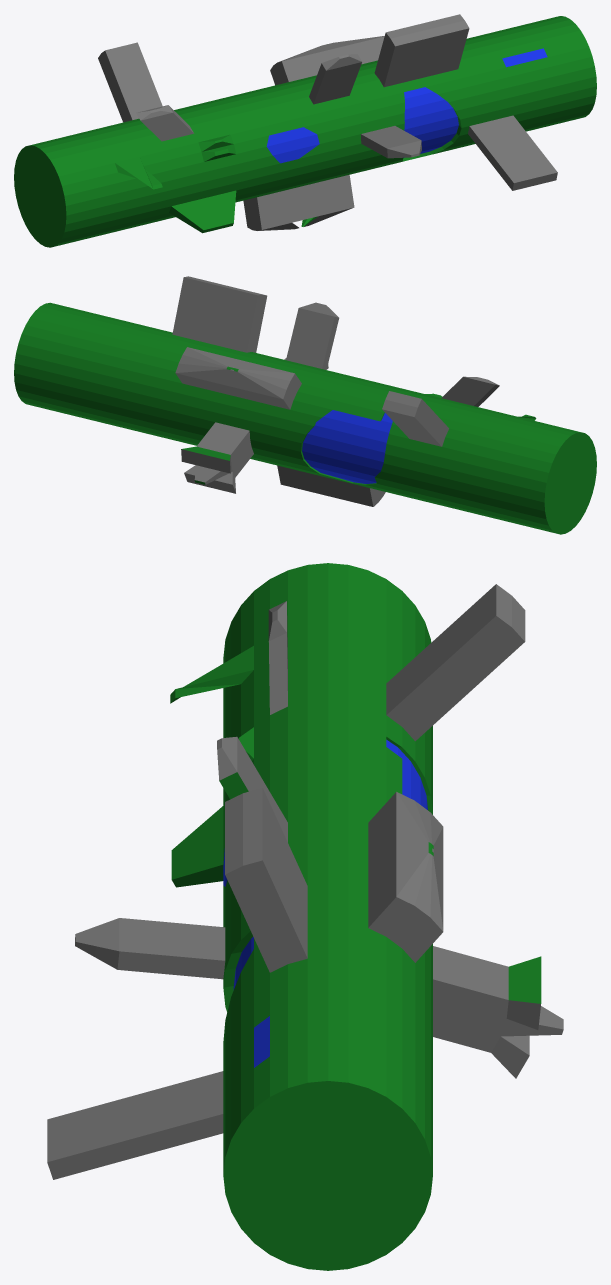
The model's file is earth.glb.
3 views of the same model, one above another, from view 1: azimuth 30°, elevation 25°; view 2: azimuth 150°, elevation 25°; view 3: azimuth 270°, elevation 25° (orthographic). The views are drawn at different scales.
Parts seen in each view (by area): view 1: Cylinder; view 2: Cylinder; view 3: Cylinder.
Boxes of the visible parts, x1,y1,x2,y2 form: Cylinder: (14,14,596,247); Cylinder: (14,276,596,534); Cylinder: (47,563,563,1270).
Size of the model in its own units: 63.43 by 20.28 by 26.74.
